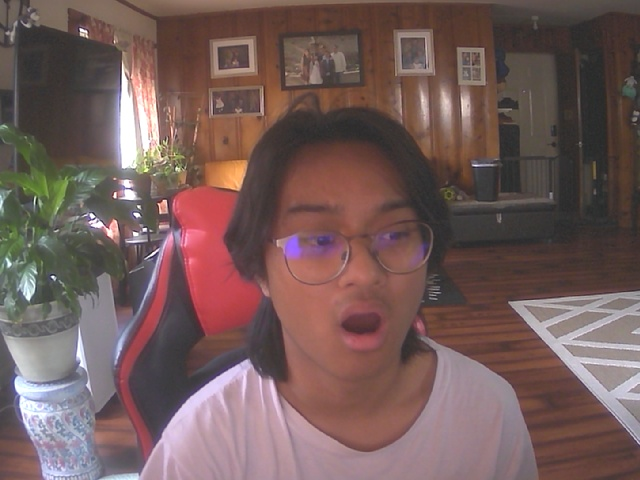fear: (251, 114, 443, 382)
